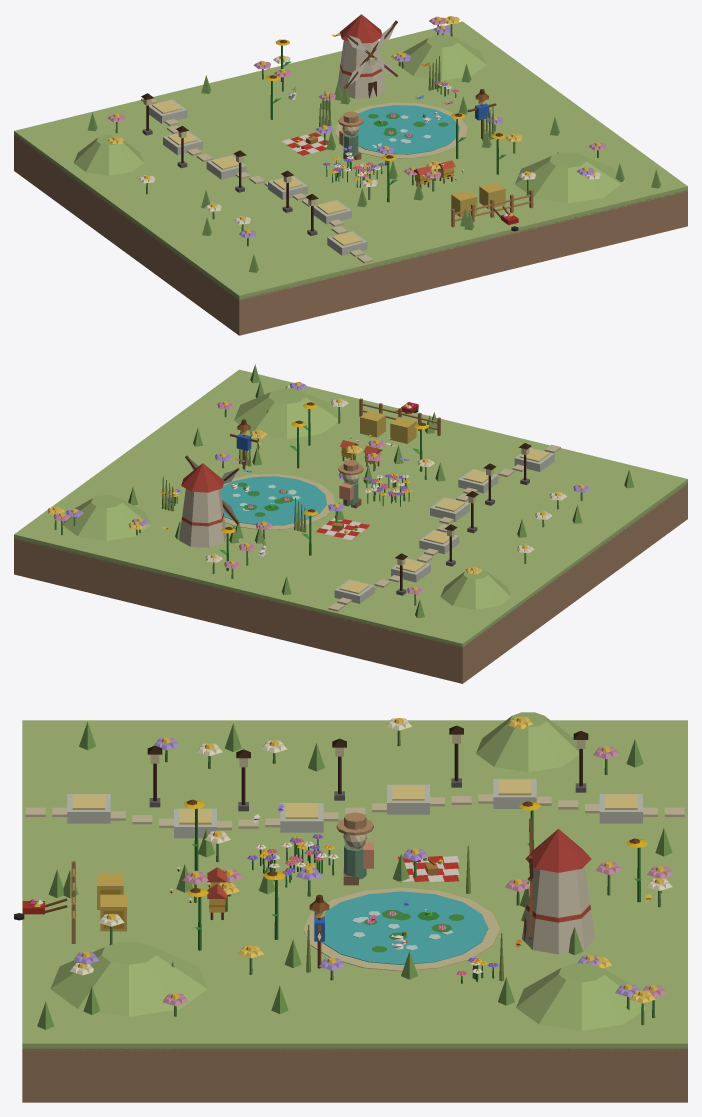
The model's file is meadow-v0.glb.
3 views of the same model, one above another, from view 1: azimuth 30°, elevation 25°; view 2: azimuth 150°, elevation 25°; view 3: azimuth 270°, elevation 25° (orthographic). The views are drawn at different scales.
Size of the model in its own units: 11.5 by 2.81 by 10.13.
